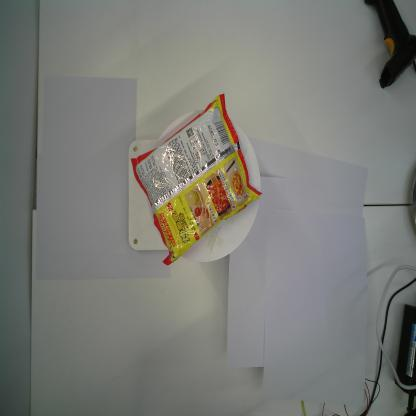Instant Noodles: (130, 92, 263, 267)
